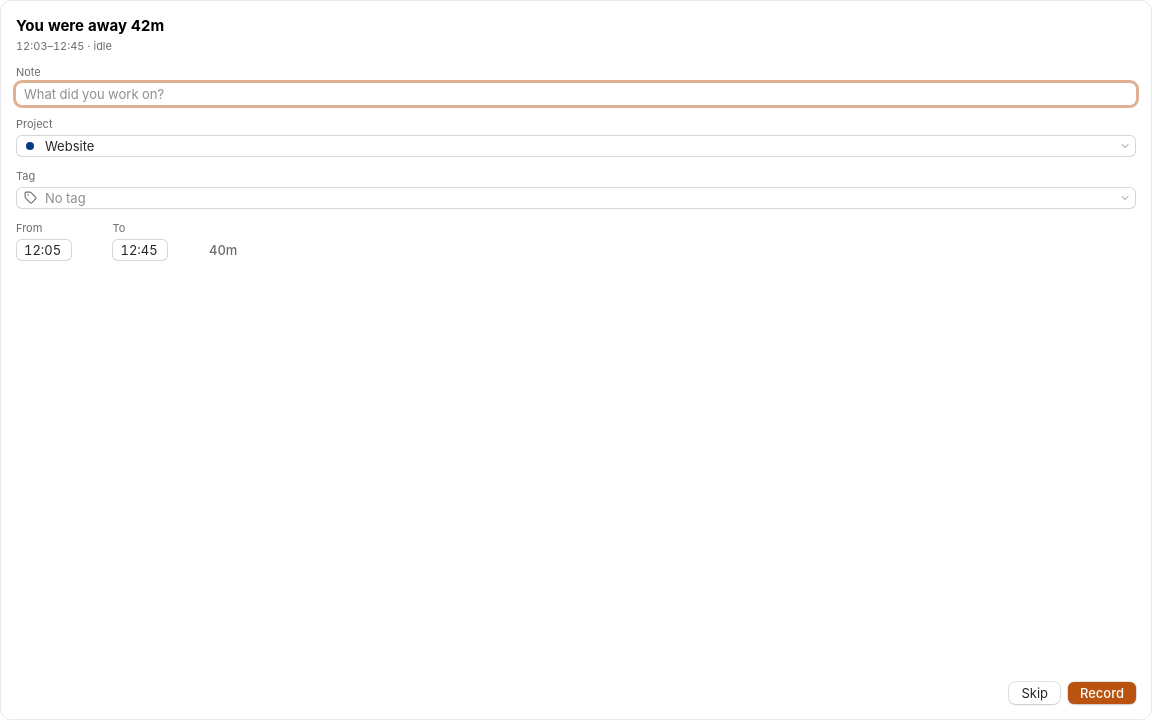
Test: AwayPrompt › errors › lists every span of a recording in the way
Expected: the dropdown named "project" is shown, [45, 135, 1106, 157]
Click the button "Record" at (1102, 693), box [1068, 682, 1136, 704]
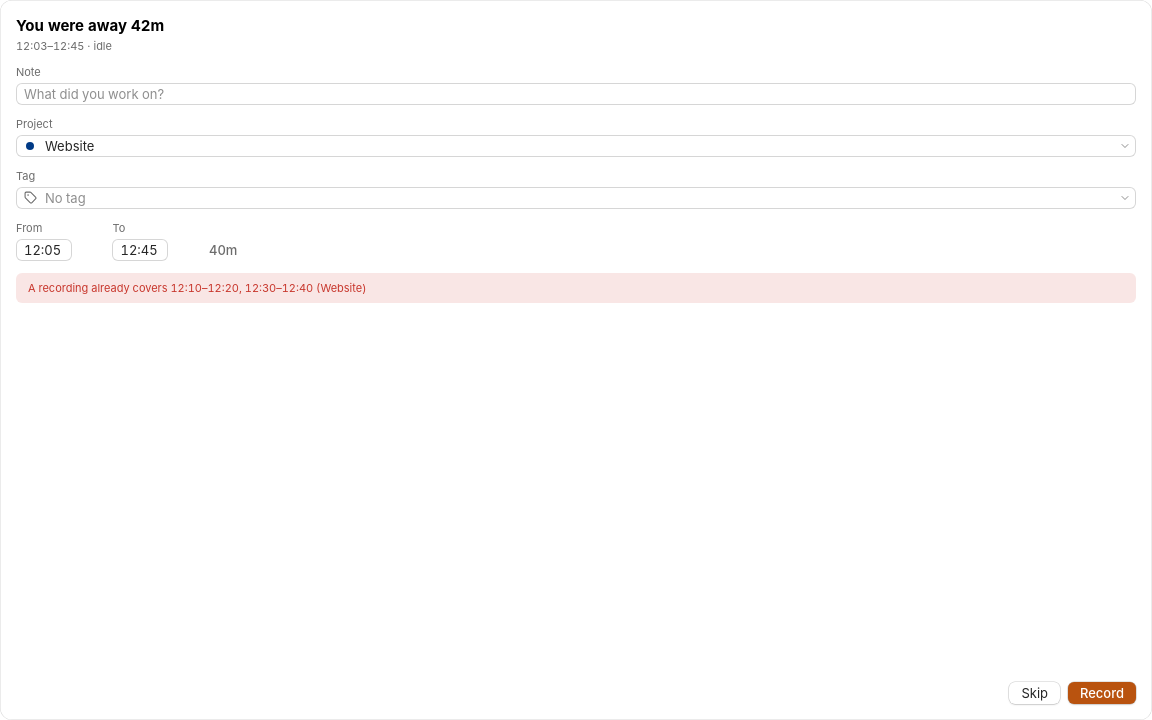
Result: the message reads "A recording already covers 12:10–12:20, 12:30–12:40 (Website)" at [28, 281, 366, 295]
